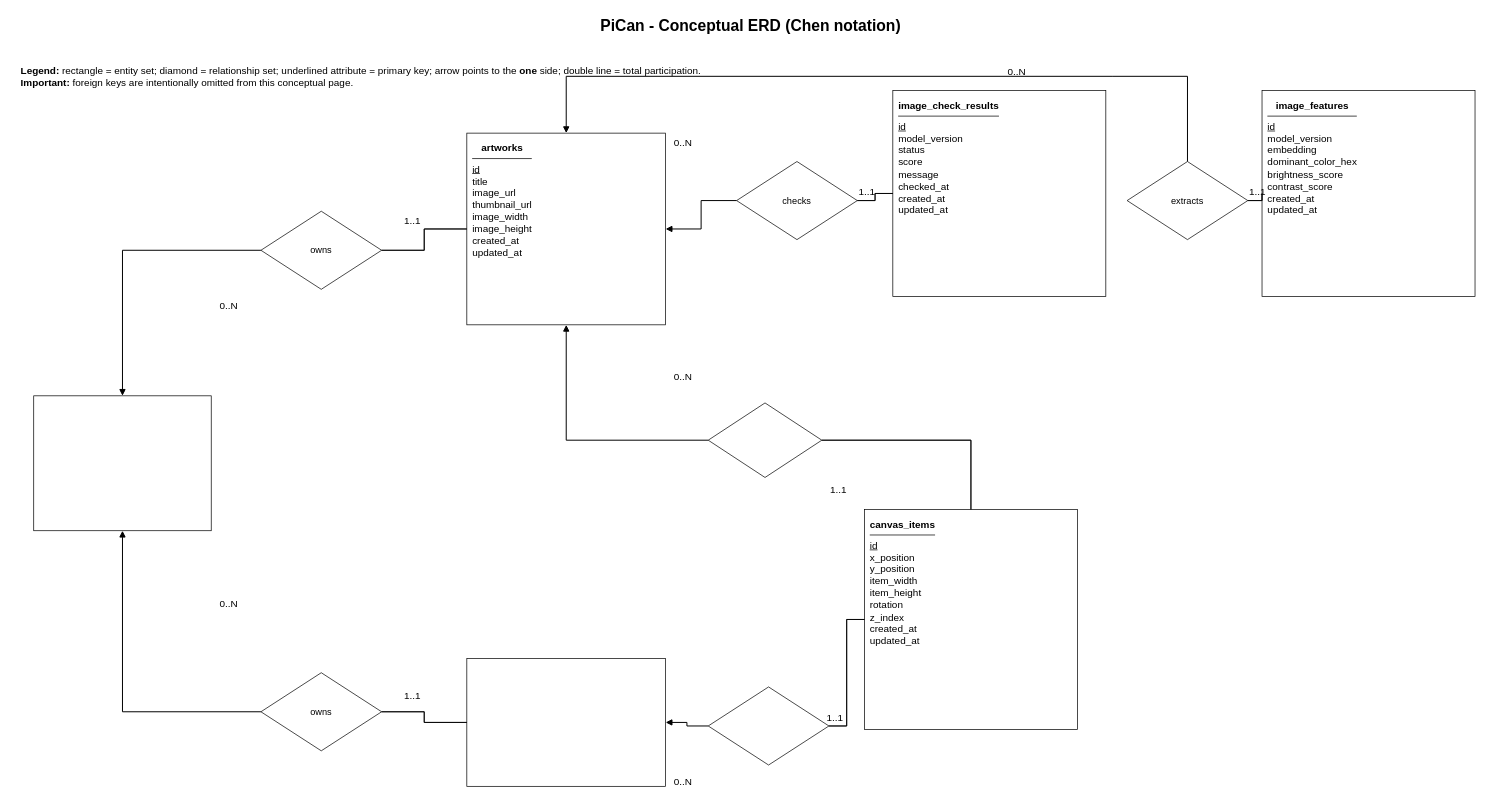
The diagram is 1501 pixels wide and 802 high, and some of its shapes have lost their labels. The centre of each missing label's shape, as x and y in pixels:
canvases id name created_at updated_at: (x=566, y=722)
contains: (x=768, y=725)
profiles id display_name avatar_url created_at updated_at: (x=122, y=463)
uses: (x=765, y=439)
